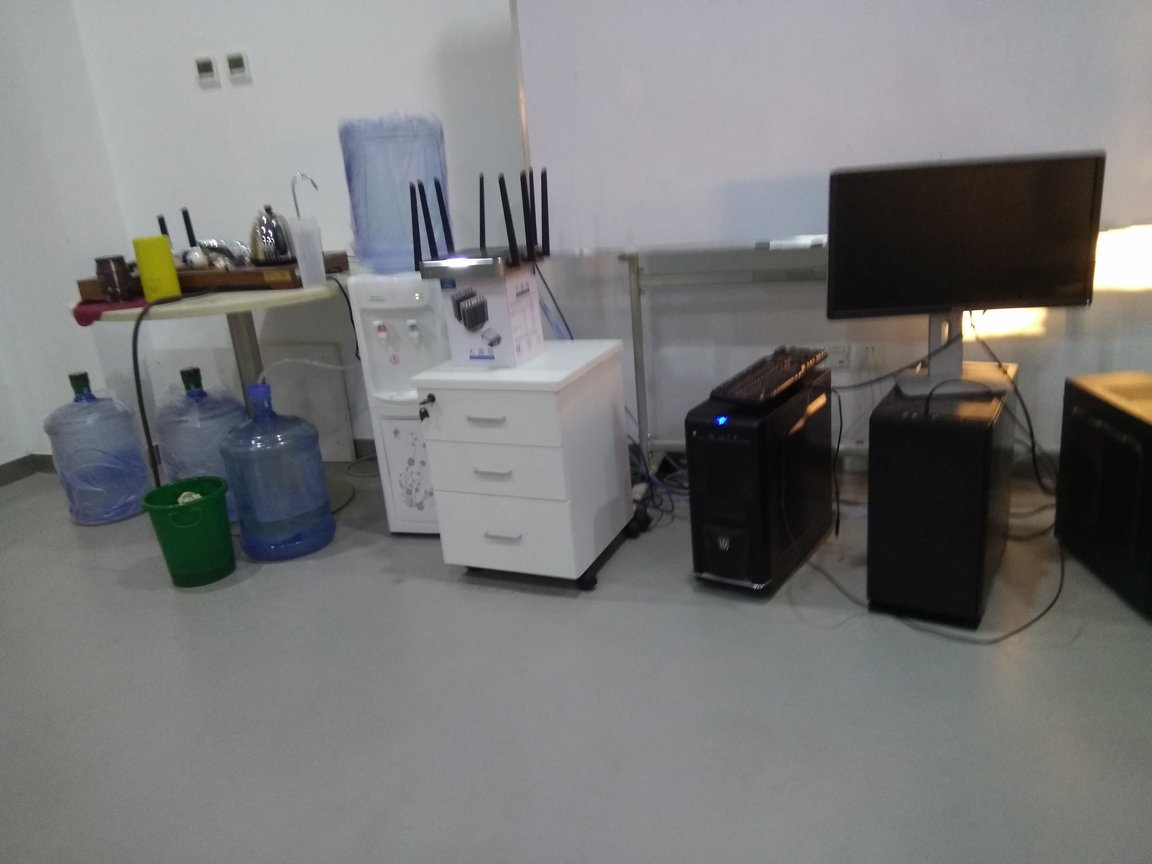computer: (871, 355, 1016, 638), (685, 368, 836, 619), (1064, 371, 1152, 619)
drawer chest: (414, 332, 637, 612)
monitor: (818, 152, 1105, 413)
scuttlebutt: (333, 114, 455, 274), (227, 382, 329, 568), (150, 363, 253, 542), (42, 371, 150, 520)
water dispenser: (349, 261, 483, 551)
